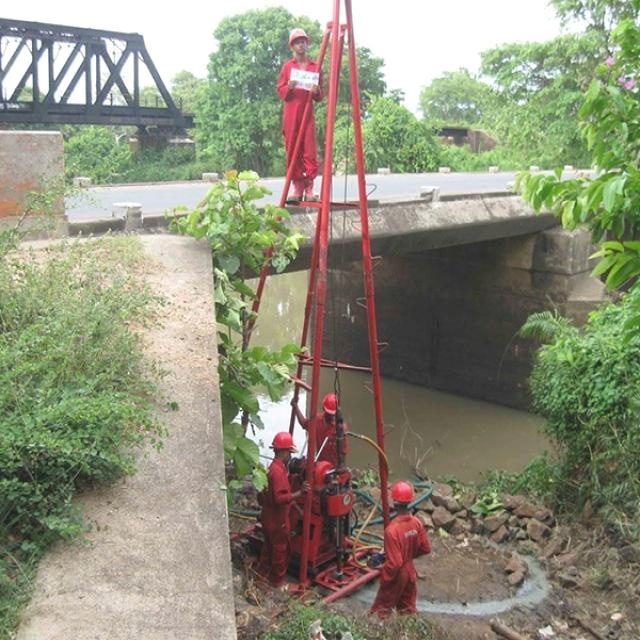Con_Casco: (391, 479, 416, 513), (288, 28, 309, 56)
